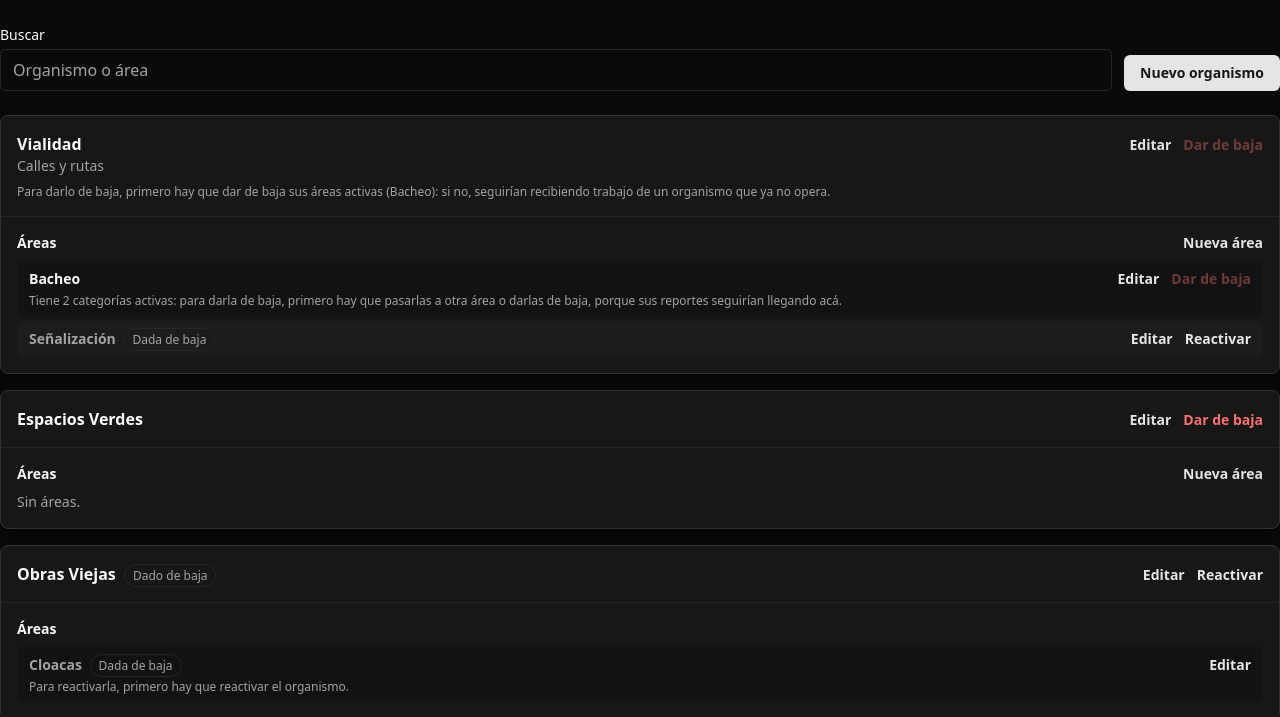
Test case: organismos y áreas (F16) › la baja pide confirmación y, al confirmar, la manda
(page scrolled)
What coordinates should you click on to do the following:
click the button with aria-label "Dar de baja Espacios Verdes"
I would click on:
 (1223, 420)
Its box is [1183,410,1263,430].
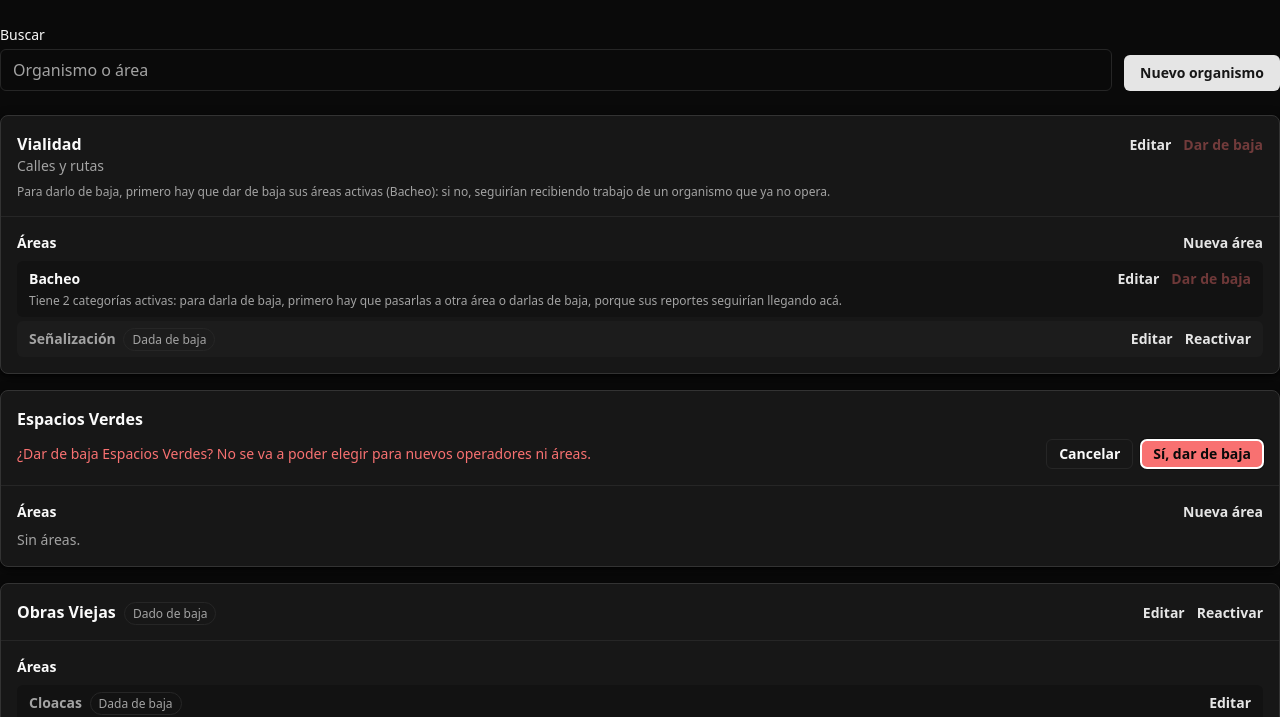
What coordinates should you click on to do the following:
click the button "Cancelar"
I would click on:
 (1090, 454)
Its box is [1046,439,1133,469].
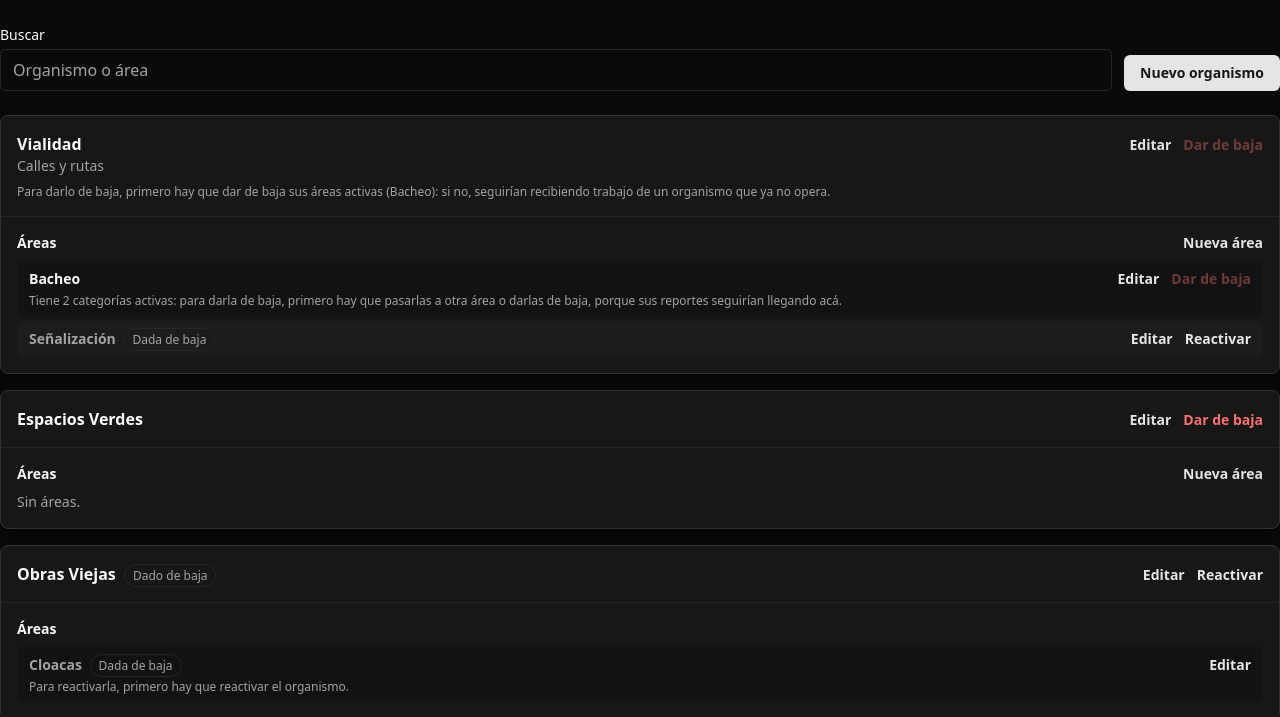
What coordinates should you click on to do the following:
click the button with aria-label "Dar de baja Espacios Verdes"
I would click on:
 (1223, 420)
Its box is [1183,410,1263,430].
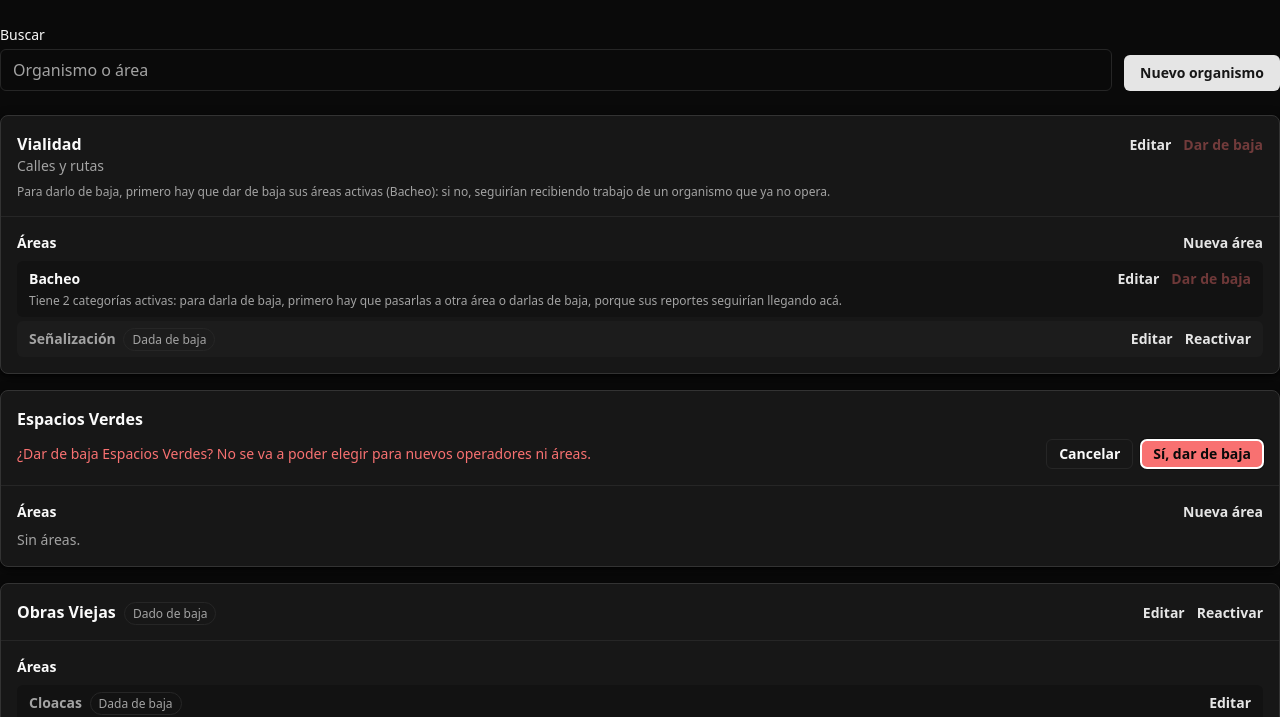
What coordinates should you click on to do the following:
click the button "Sí, dar de baja"
I would click on:
 (1202, 454)
Its box is [1141,440,1263,468].
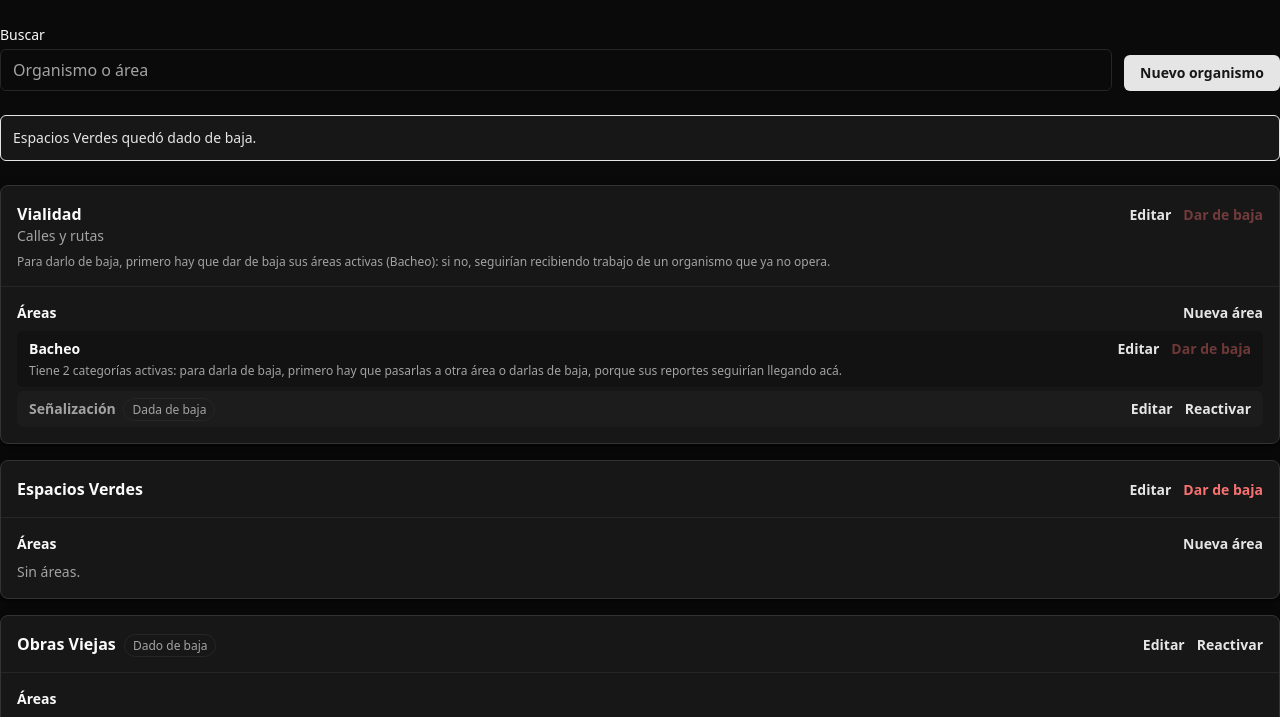
Expected: the text "Espacios Verdes quedó dado de baja." is shown, [0,115,1279,161]
